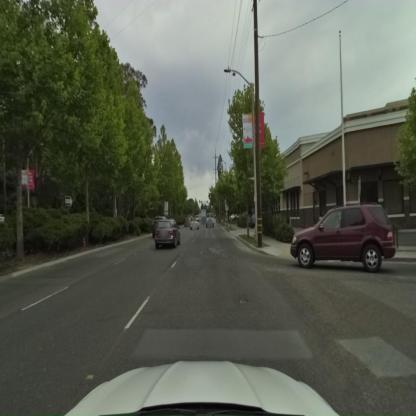car: (290, 204, 398, 273), (152, 219, 181, 251), (190, 220, 200, 231), (205, 218, 213, 228)
